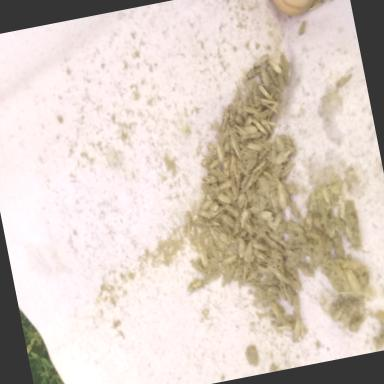pbw: (276, 47, 294, 87), (208, 224, 228, 254), (344, 266, 362, 298), (214, 108, 234, 134), (306, 226, 332, 246), (268, 229, 290, 252), (288, 316, 305, 345), (260, 94, 282, 116), (330, 300, 350, 322), (296, 258, 316, 280), (273, 146, 296, 165), (233, 119, 258, 136), (228, 129, 242, 159), (277, 160, 297, 180), (189, 258, 209, 278), (253, 116, 271, 138), (238, 174, 260, 192), (265, 234, 284, 254), (244, 138, 266, 155), (254, 209, 276, 226), (286, 218, 306, 236), (213, 178, 235, 194), (240, 239, 255, 262), (211, 166, 229, 185), (260, 116, 278, 134), (276, 182, 288, 209), (269, 212, 285, 232), (291, 293, 303, 319), (239, 210, 253, 232), (252, 246, 270, 263), (258, 81, 273, 101), (198, 172, 219, 186), (236, 234, 248, 258), (276, 318, 294, 334), (260, 66, 272, 90), (270, 188, 282, 212), (215, 140, 227, 164), (334, 74, 354, 88), (234, 266, 246, 289), (198, 208, 219, 221), (226, 155, 239, 176), (224, 201, 240, 218), (329, 214, 346, 230), (244, 65, 262, 80), (268, 57, 282, 76), (241, 130, 263, 142), (372, 327, 384, 349), (320, 184, 332, 206), (266, 64, 278, 86), (275, 70, 286, 94), (198, 246, 210, 268), (225, 264, 238, 284), (242, 102, 260, 116), (306, 0, 327, 12), (183, 208, 194, 230), (270, 298, 282, 318), (252, 110, 272, 122), (253, 241, 270, 255), (252, 53, 270, 66), (273, 132, 284, 152), (206, 139, 218, 157), (188, 279, 206, 291), (250, 160, 268, 172), (242, 148, 260, 160), (216, 130, 230, 145), (218, 191, 232, 206), (226, 109, 237, 128), (222, 212, 235, 228), (306, 194, 317, 212), (296, 20, 309, 35), (198, 199, 214, 211), (200, 154, 216, 166), (290, 200, 300, 219), (377, 307, 384, 333), (304, 214, 314, 232), (208, 158, 222, 170), (222, 256, 238, 266), (237, 105, 248, 119), (257, 262, 269, 274), (263, 168, 273, 180), (322, 0, 334, 3)
